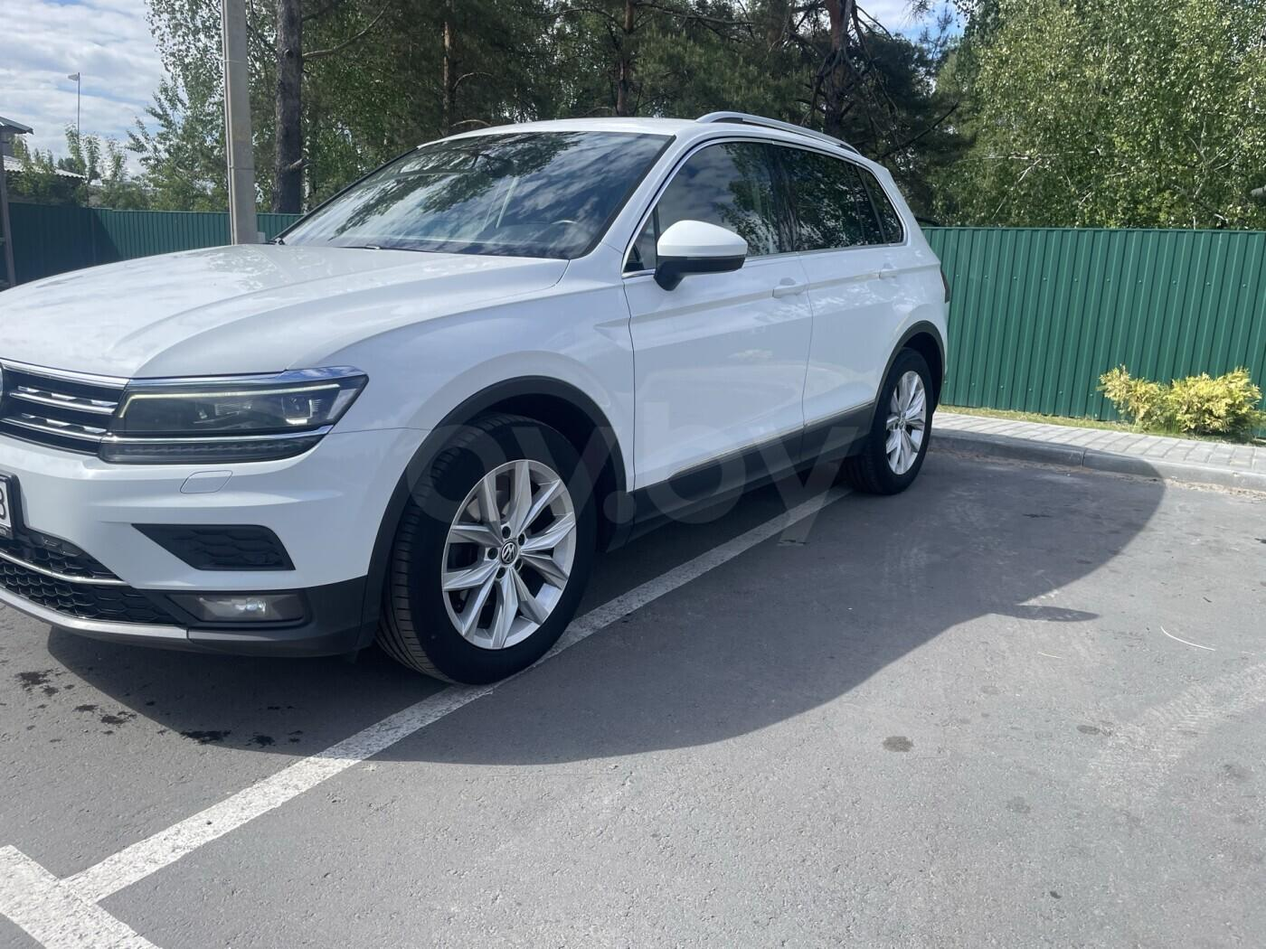Tiguan_2016-2021: (0, 110, 961, 682)
